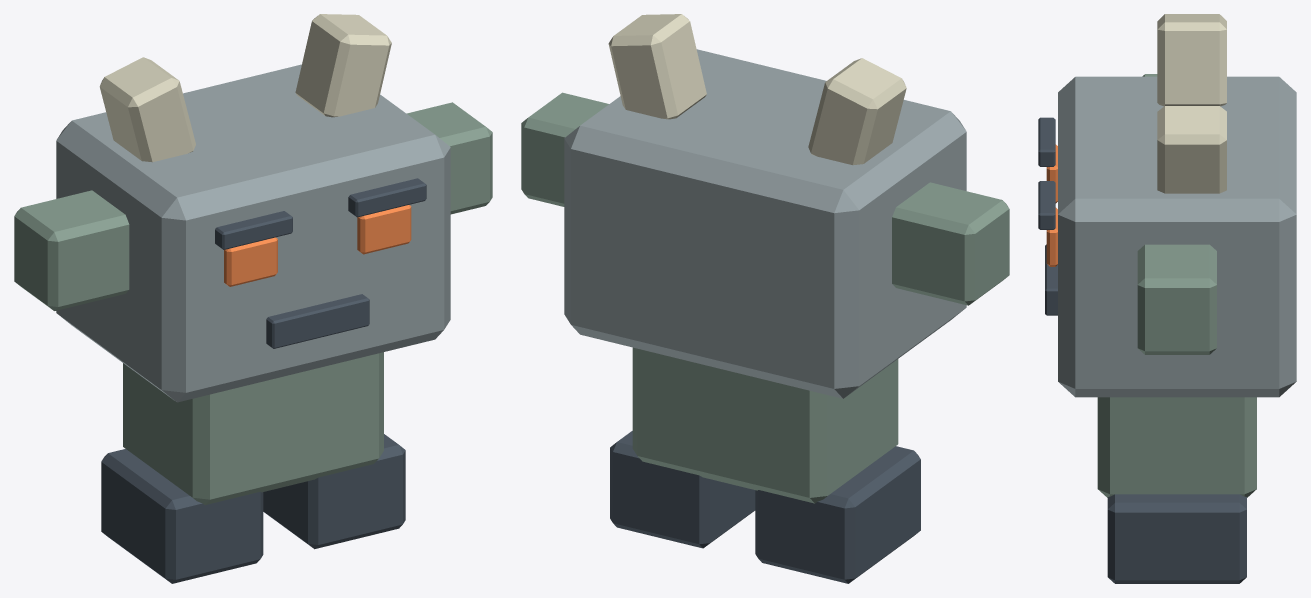
Rendered from EnemyImp.fbx.
3 views of the same model, side by side, from view 1: azimuth 30°, elevation 25°; view 2: azimuth 150°, elevation 25°; view 3: azimuth 270°, elevation 25° (orthographic). The views are drawn at different scales.
Parts seen in each view (by area): view 1: EnemyImp; view 2: EnemyImp; view 3: EnemyImp.
Part boxes in pixels (left/top/right/bottom): EnemyImp: left=14, top=14, right=492, bottom=583; EnemyImp: left=521, top=14, right=1009, bottom=583; EnemyImp: left=1038, top=14, right=1296, bottom=583.
Bounding box in the file's own units: 100 × 103 × 51.95.
